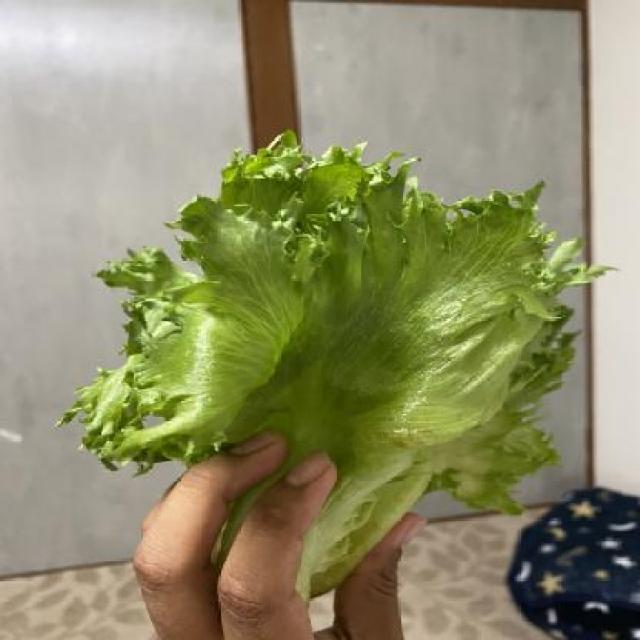Lettuce head: (53, 124, 620, 607)
